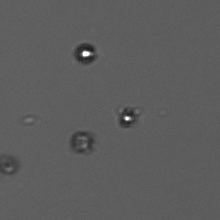Dead Cell: (69, 131, 94, 154), (1, 155, 18, 176)
Living Cell: (74, 43, 96, 63), (118, 106, 137, 127)
